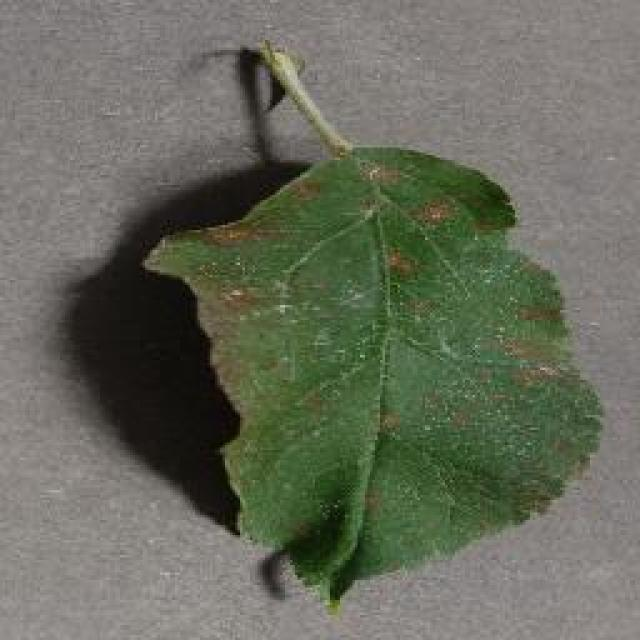apple rust disease: (137, 38, 605, 610)
